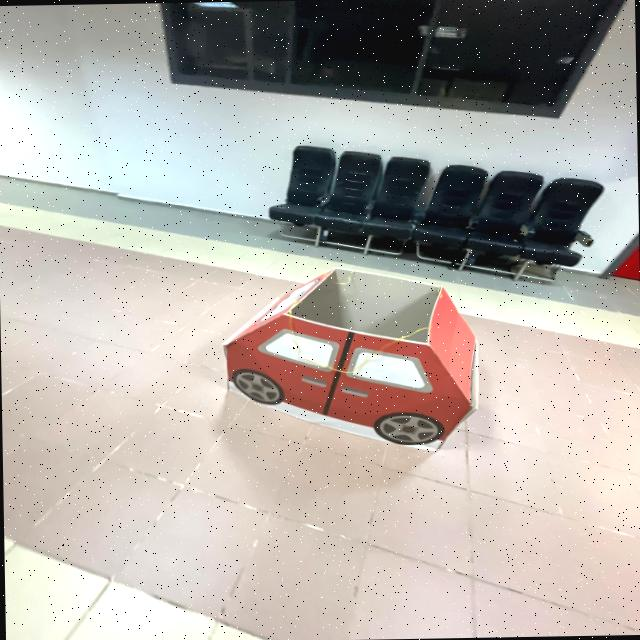red_car: (199, 251, 493, 473)
